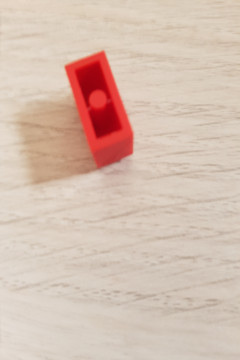1x2 red: (63, 49, 135, 171)
